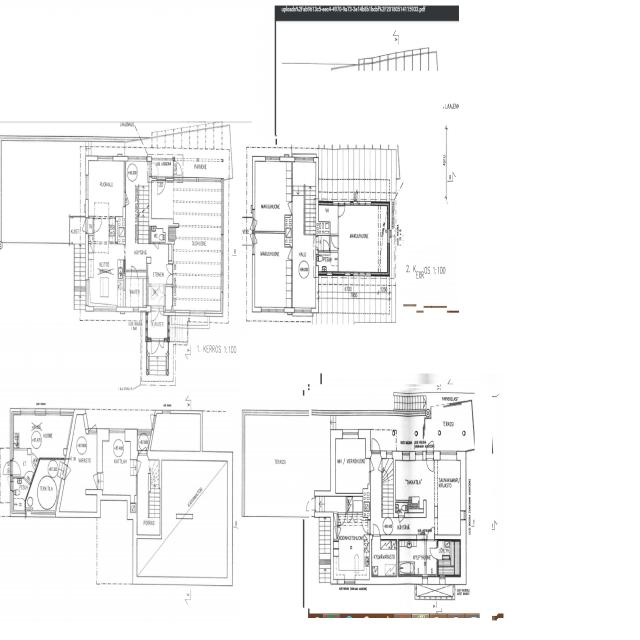door: (62, 464, 76, 484), (144, 411, 156, 430), (23, 466, 34, 484), (29, 454, 40, 471), (157, 177, 166, 196), (138, 437, 147, 455), (10, 461, 22, 474), (2, 461, 14, 474), (151, 306, 159, 325), (88, 416, 96, 434), (372, 437, 380, 455), (152, 338, 160, 356), (78, 218, 88, 232), (172, 161, 182, 175), (89, 474, 98, 488), (136, 461, 145, 475), (362, 520, 371, 534), (124, 192, 133, 206), (92, 219, 101, 232), (308, 498, 317, 510), (373, 524, 380, 539), (338, 513, 346, 526), (252, 219, 261, 230), (246, 219, 255, 230), (427, 527, 434, 541), (370, 459, 378, 471), (374, 459, 382, 471), (331, 236, 339, 248), (284, 202, 292, 214), (284, 248, 292, 260), (323, 239, 330, 252), (252, 234, 261, 244), (246, 234, 255, 244), (430, 548, 438, 559), (337, 526, 344, 538), (131, 266, 138, 278), (427, 441, 433, 454), (338, 206, 345, 217), (427, 459, 433, 471), (337, 516, 344, 526), (166, 274, 173, 284), (166, 264, 173, 274), (399, 513, 404, 526), (159, 338, 164, 350), (159, 306, 163, 320), (154, 242, 159, 253), (347, 513, 352, 523), (352, 513, 357, 523)
